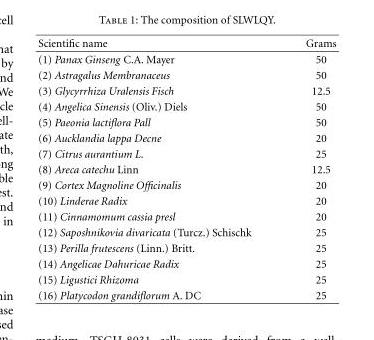table: (37, 36, 335, 300)
table column: (37, 36, 277, 300), (277, 36, 335, 300)
table column header: (37, 36, 335, 51)
table row: (37, 66, 335, 82), (37, 82, 335, 98), (37, 98, 335, 114), (37, 129, 335, 145), (37, 145, 335, 161), (37, 161, 335, 177), (37, 192, 335, 208), (37, 208, 335, 224), (37, 239, 335, 255), (37, 255, 335, 271), (37, 271, 335, 287), (37, 36, 335, 51), (37, 51, 335, 66), (37, 114, 335, 129), (37, 177, 335, 192), (37, 224, 335, 239), (37, 287, 335, 300)
